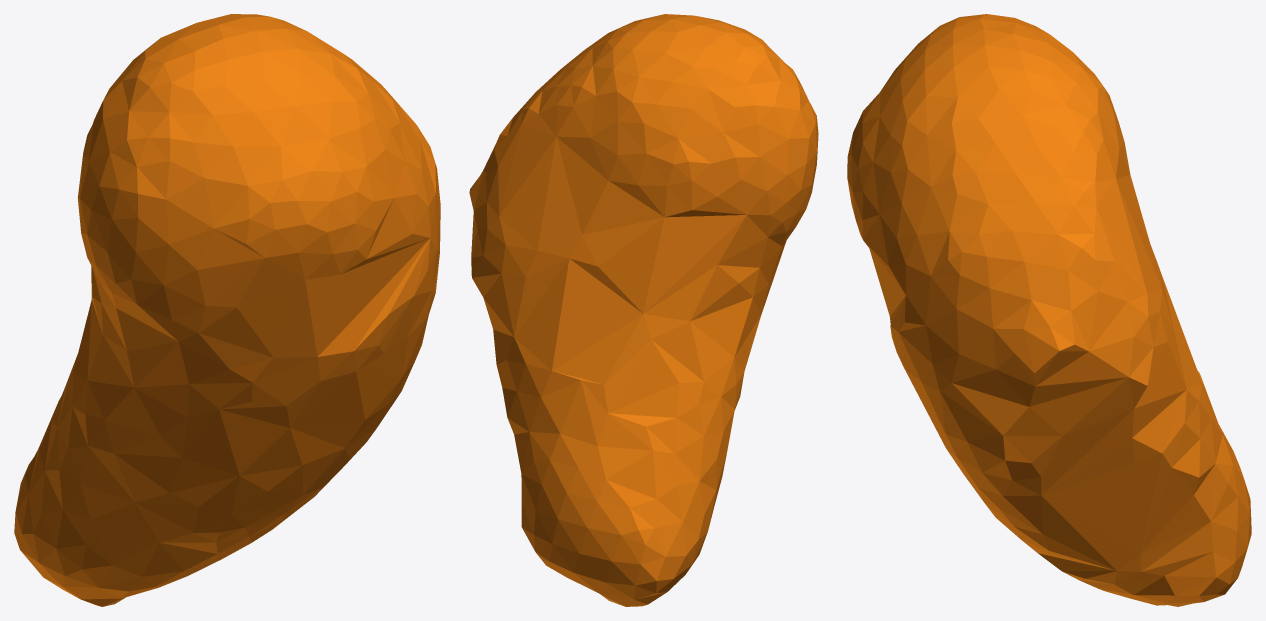
Rendered from Model_653_RH__Anterior_interposed_cerebellar_nucleus_(IntA).obj.
3 views of the same model, side by side, from view 1: azimuth 30°, elevation 25°; view 2: azimuth 150°, elevation 25°; view 3: azimuth 270°, elevation 25° (orthographic). The views are drawn at different scales.
Bounding box in the file's own units: 0.9597 × 1.55 × 0.9761.
